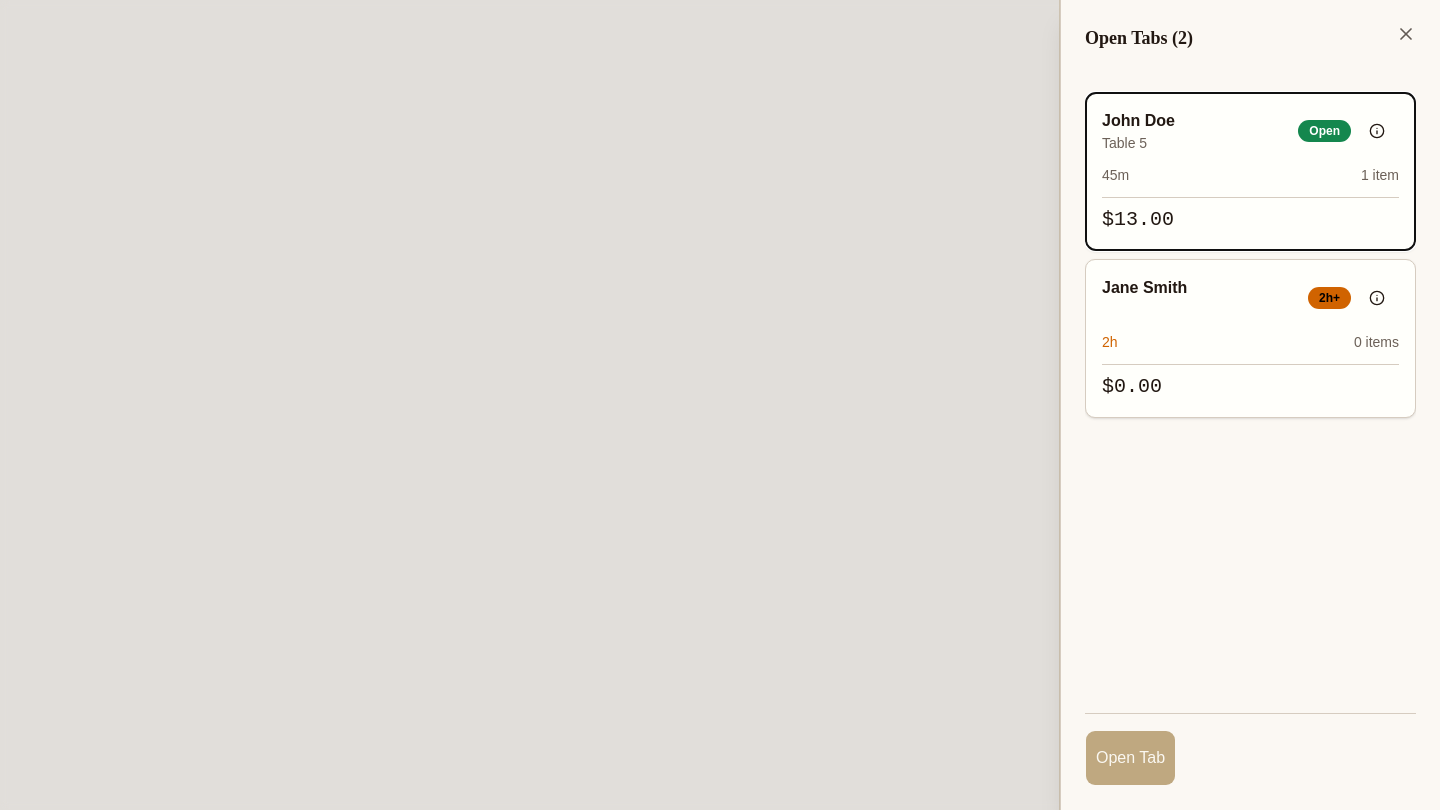
Test: TabDrawer › opens the tab details sheet when a card Details button is clicked
Click the button named "View details for John Doe": click(1377, 131) [1355, 109, 1399, 153]
(page scrolled)
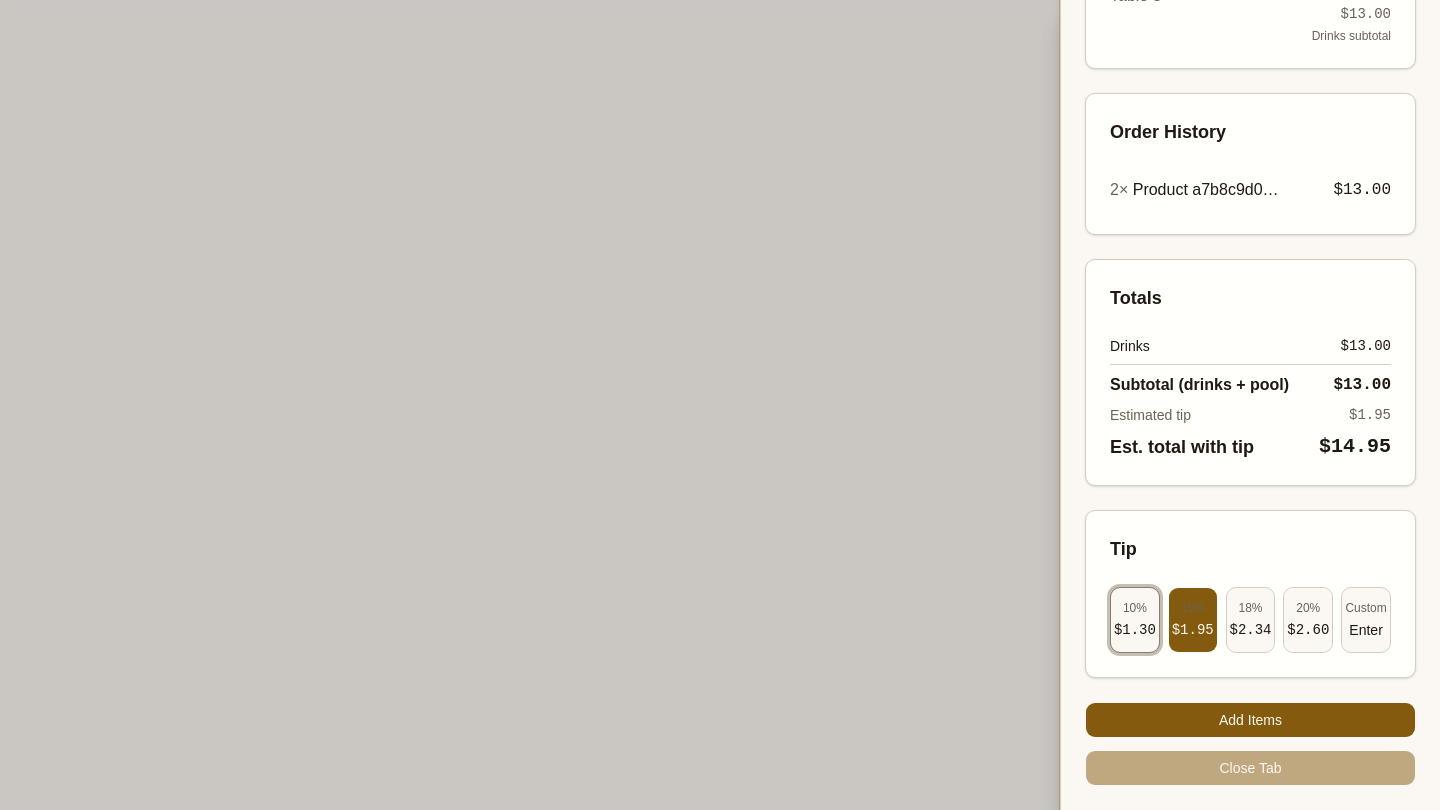
Now the button "Close Tab" is shown, box [1085, 750, 1416, 786]
